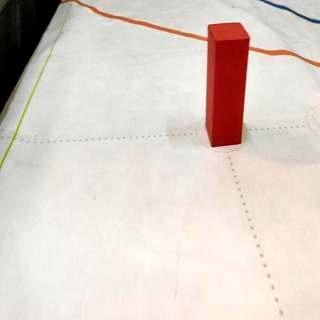redbox: (204, 22, 250, 146)
